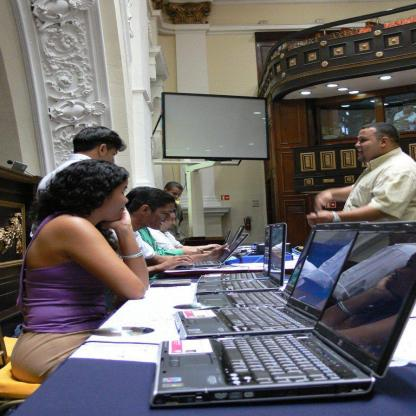board: (146, 220, 416, 408), (174, 222, 363, 340), (197, 229, 320, 308), (194, 222, 286, 293), (171, 233, 250, 268), (204, 224, 245, 251), (203, 229, 231, 250)
